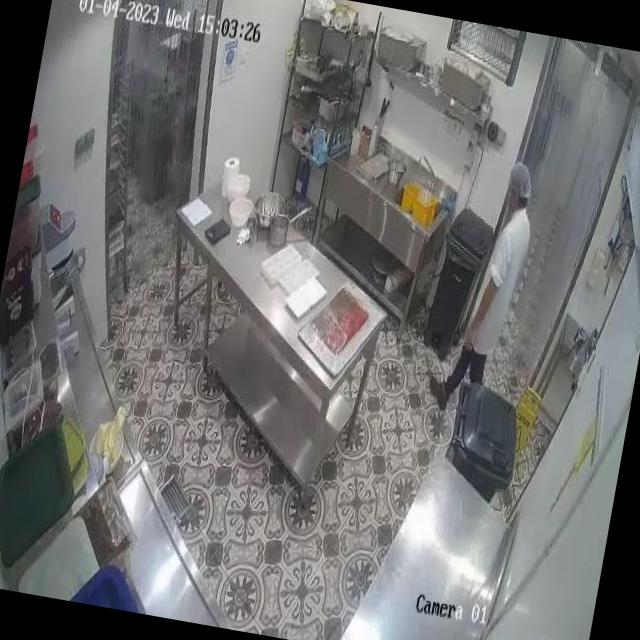hairnet: (506, 163, 535, 198)
